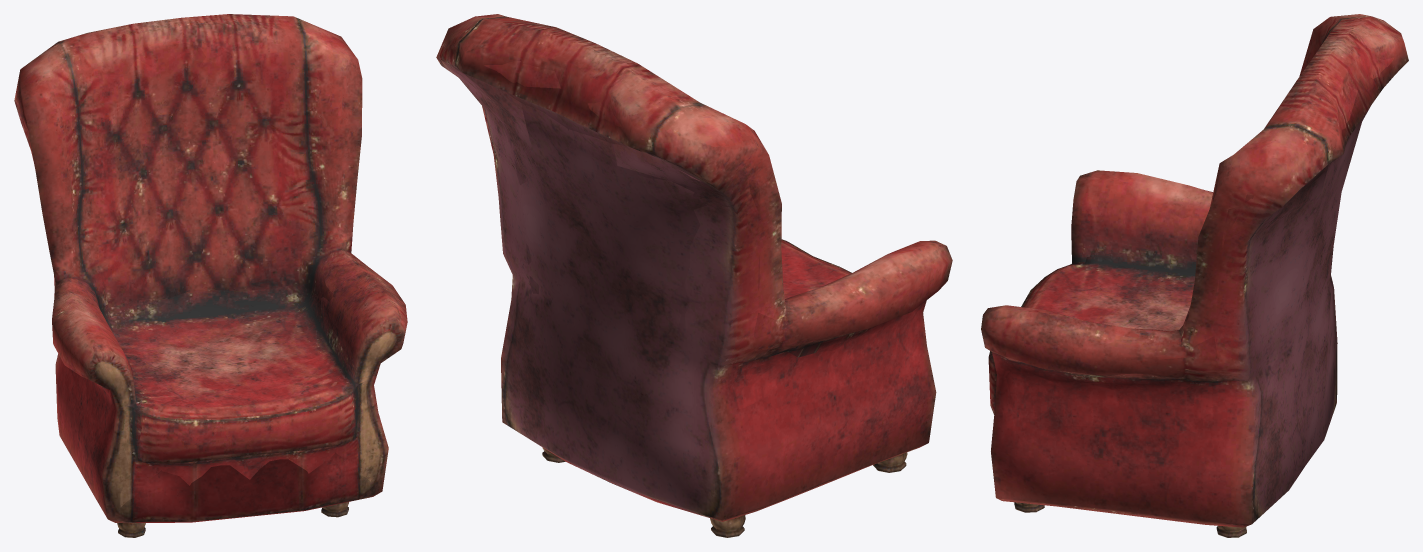
Rendered from Circus stuff chair 16.fbx.
The picture shows the model from 3 angles, left to right: view 1: azimuth 30°, elevation 25°; view 2: azimuth 150°, elevation 25°; view 3: azimuth 270°, elevation 25°; orthographic projection. The views are drawn at different scales.
Parts seen in each view (by area): view 1: polySurface3661; view 2: polySurface3661; view 3: polySurface3661.
Boxes of the visible parts, x1,y1,x2,y2 form: polySurface3661: (14,14,407,537); polySurface3661: (436,14,952,537); polySurface3661: (981,14,1408,537).
Bounding box in the file's own units: 135 × 147 × 129.
